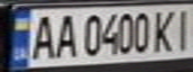0: (78, 10, 103, 57), (133, 8, 154, 54), (118, 10, 136, 55)
4: (100, 10, 121, 55)
A: (51, 10, 81, 60), (27, 11, 57, 61)
I: (172, 6, 193, 52)
K: (151, 7, 178, 53)
